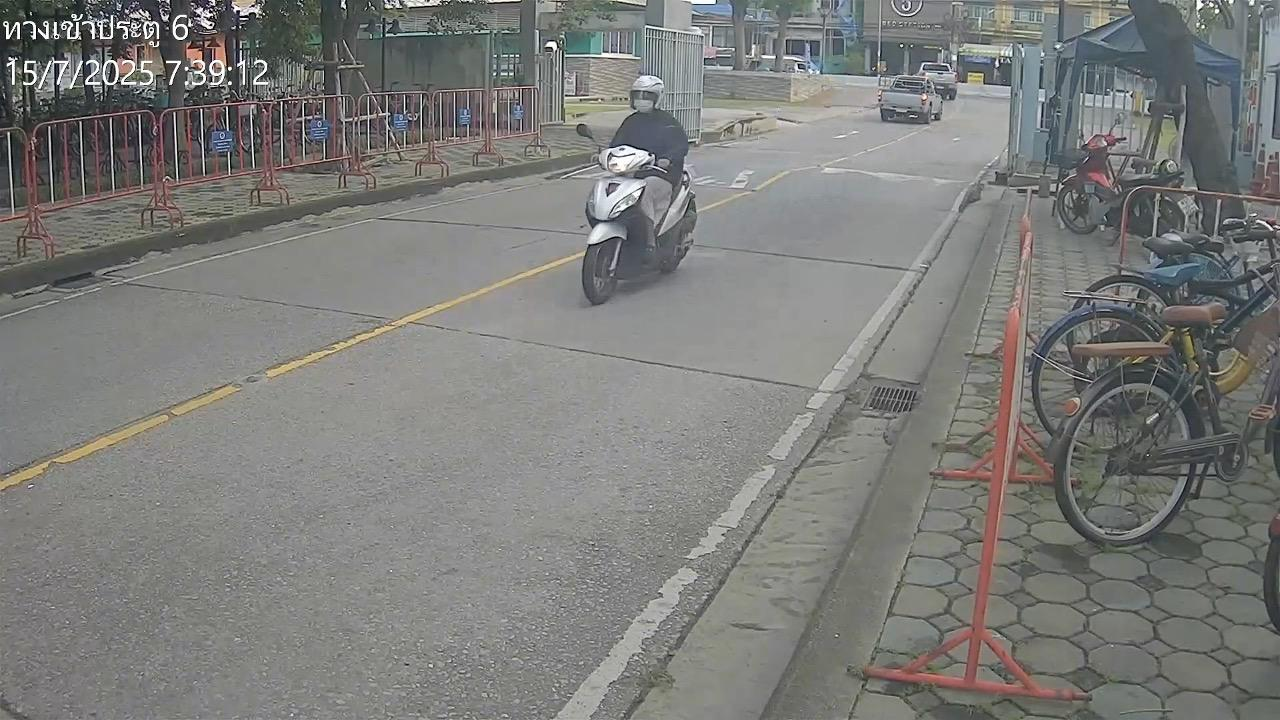With-Helmet: (631, 74, 666, 113)
